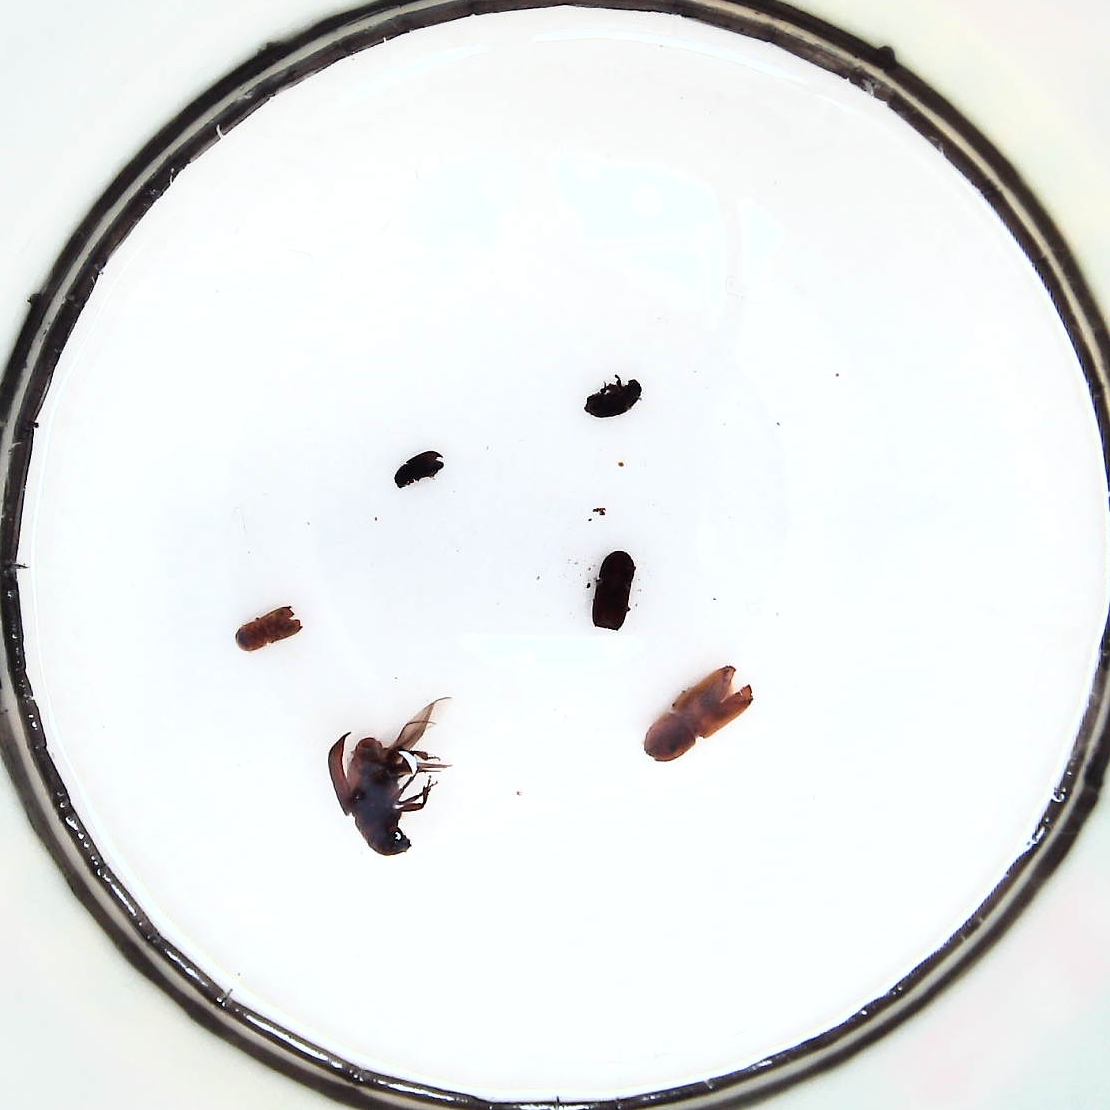Boerner: (644, 665, 753, 761)
Leconte: (330, 733, 432, 857)
acuminatus: (394, 451, 444, 491)
armandi: (235, 606, 304, 652)
coleoptera: (585, 379, 641, 419)
linnaeus: (593, 551, 635, 632)
